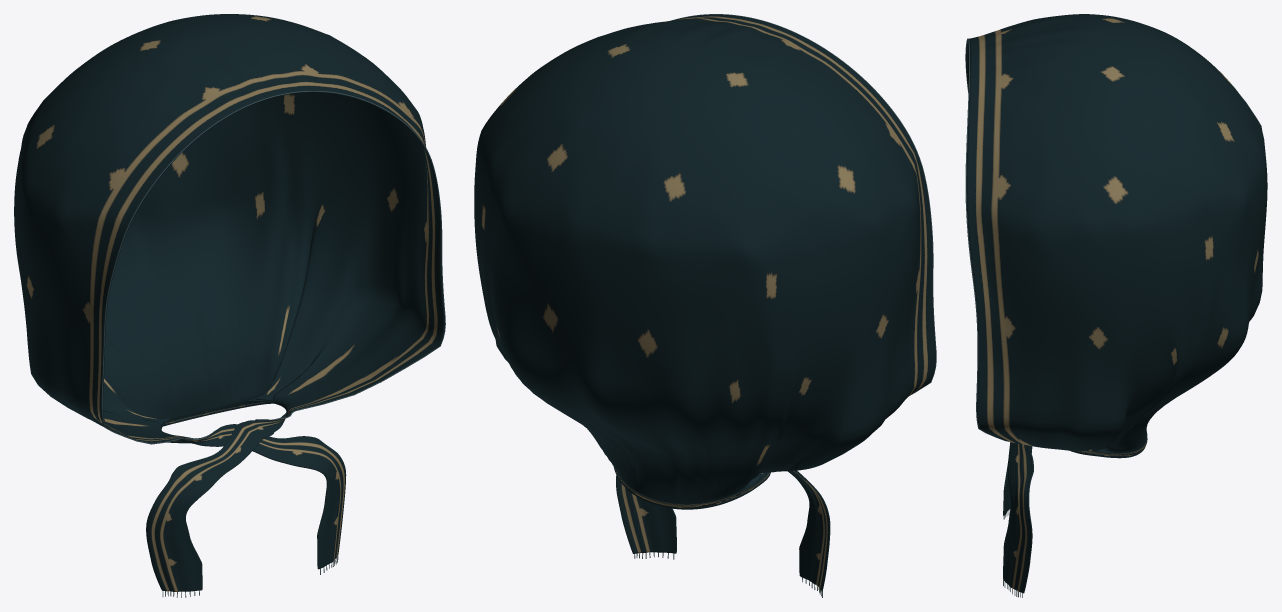
The model's file is Masculine-curly-top-jersey-pashmina249-headgear.glb.
3 renders of one model, left to right at view 1: azimuth 30°, elevation 25°; view 2: azimuth 150°, elevation 25°; view 3: azimuth 270°, elevation 25°, orthographic. The views are drawn at different scales.
Parts seen in each view (by area): view 1: 226 headgear / Headwear / continuous woven pashmina239, 226 headgear / Headwear / face edge239; view 2: 226 headgear / Headwear / continuous woven pashmina239, 226 headgear / Headwear / face edge239; view 3: 226 headgear / Headwear / continuous woven pashmina239, 226 headgear / Headwear / face edge239.
Part boxes in pixels (x1,y1,x2,y2): 226 headgear / Headwear / continuous woven pashmina239: (14,14,444,591); 226 headgear / Headwear / face edge239: (101,91,445,444); 226 headgear / Headwear / continuous woven pashmina239: (474,14,935,591); 226 headgear / Headwear / face edge239: (671,14,936,395); 226 headgear / Headwear / continuous woven pashmina239: (966,14,1267,593); 226 headgear / Headwear / face edge239: (965,38,1007,441).
Bounding box in the file's own units: 1.08 × 1.45 × 0.762.
3 materials, 1 textured.
